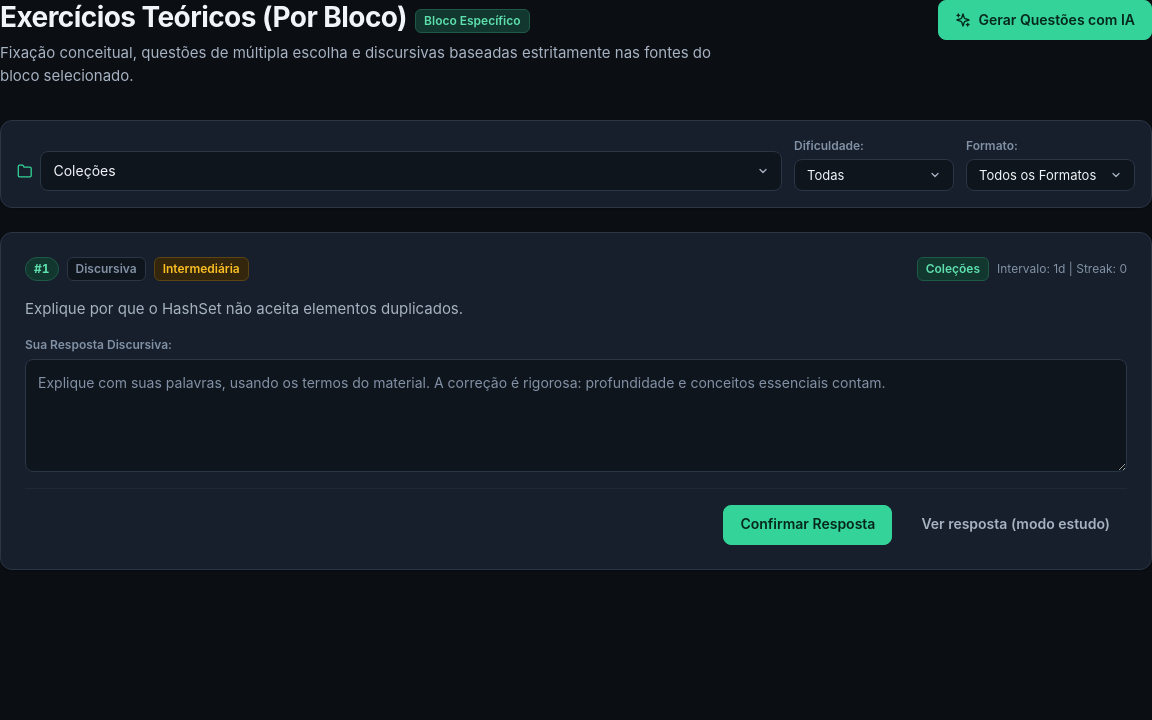
TheoreticalQuestionsPage — questão aberta › acerto mostra parabéns
Type "Usa hashCode e equals." into the text box. click: (576, 415)
box: x1=25 y1=359 x2=1127 y2=472
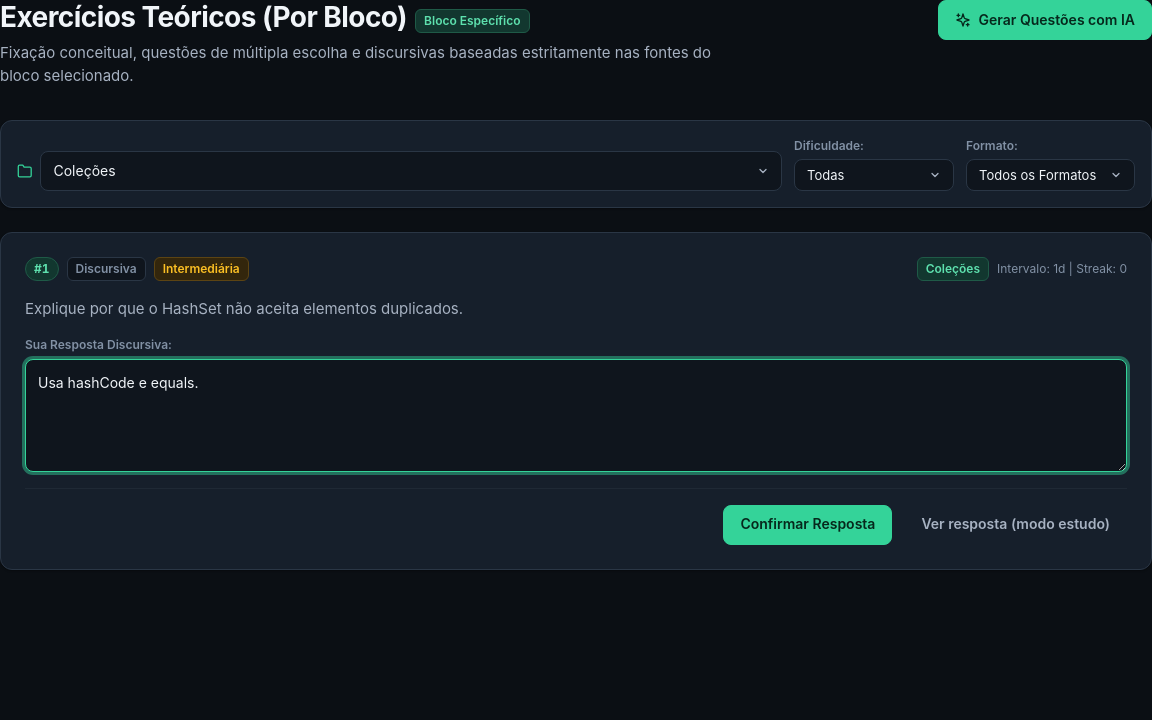
Click the button "Confirmar Resposta". click: click(808, 525)
box: x1=723 y1=505 x2=892 y2=545
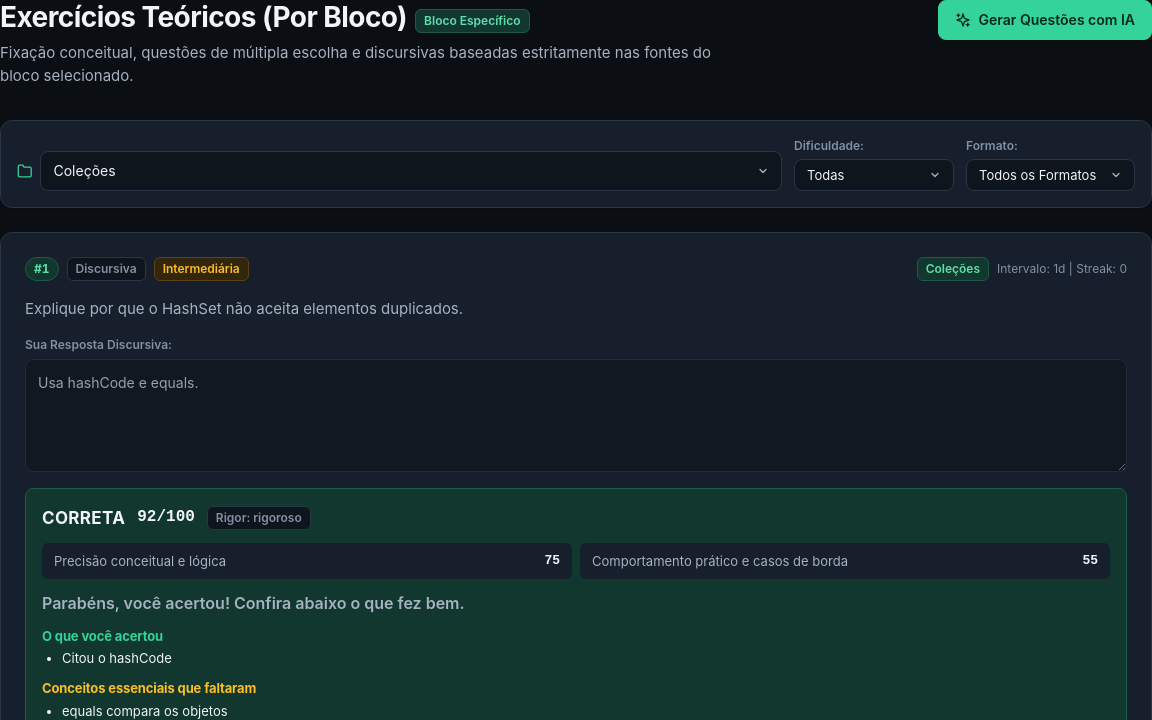
Expected: the text "Parabéns, você acertou! Confira abaixo o que fez bem." is shown, x1=42 y1=593 x2=465 y2=613
